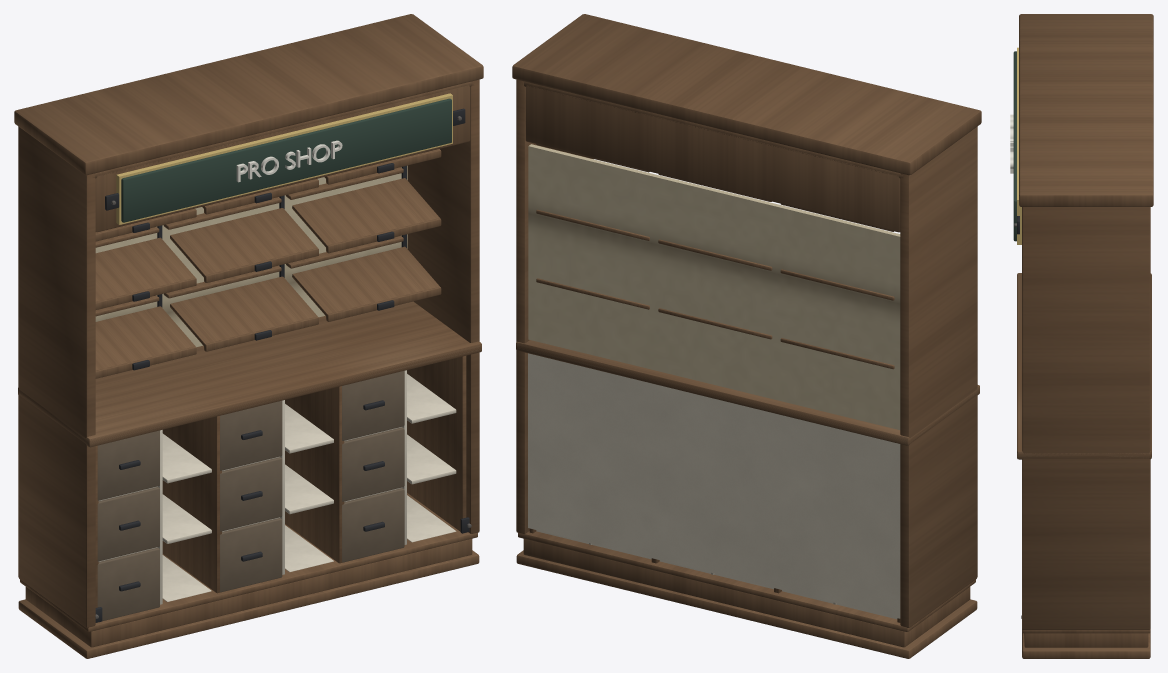
The model's file is merch_hutch.glb.
3 views of the same model, side by side, from view 1: azimuth 30°, elevation 25°; view 2: azimuth 150°, elevation 25°; view 3: azimuth 270°, elevation 25° (orthographic). The views are drawn at different scales.
Parts seen in each view (by area): view 1: merch_hutch_body, Drawer_0_1, Drawer_2_0, Drawer_2_1, Drawer_1_0, Drawer_1_1, Drawer_0_0, Drawer_0_2, Drawer_1_2, Drawer_2_2; view 2: merch_hutch_body; view 3: merch_hutch_body.
Boxes of the visible parts, x1,y1,x2,y2 form: merch_hutch_body: (14,14,483,658); Drawer_0_1: (97,487,159,561); Drawer_2_0: (342,488,404,562); Drawer_2_1: (342,427,404,501); Drawer_1_0: (220,518,282,592); Drawer_1_1: (220,457,282,531); Drawer_0_0: (97,547,159,621); Drawer_0_2: (97,430,159,500); Drawer_1_2: (220,400,282,470); Drawer_2_2: (342,371,404,440); merch_hutch_body: (512,14,981,658); merch_hutch_body: (1010,14,1153,658).
Size of what is drawn, in the model's own units: 1.34 by 1.6 by 0.447.
9 materials, 4 textured.
